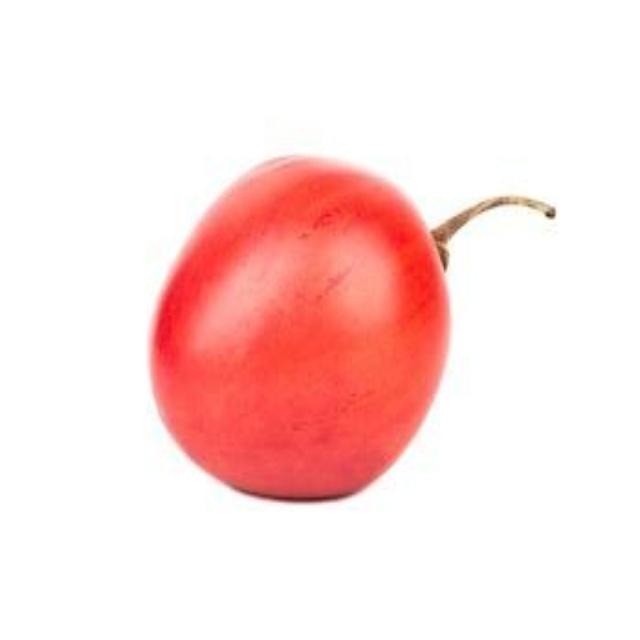tomato: (158, 146, 447, 504)
